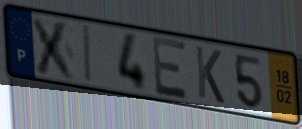4: (115, 31, 151, 95)
5: (232, 53, 266, 110)
E: (150, 34, 191, 102)
I: (82, 23, 95, 85)
K: (193, 43, 226, 107)
X: (28, 14, 79, 83)
